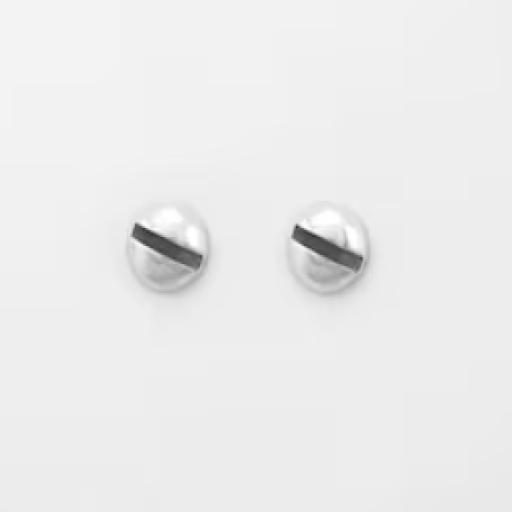Slotted: (286, 197, 370, 300), (127, 198, 209, 297)
